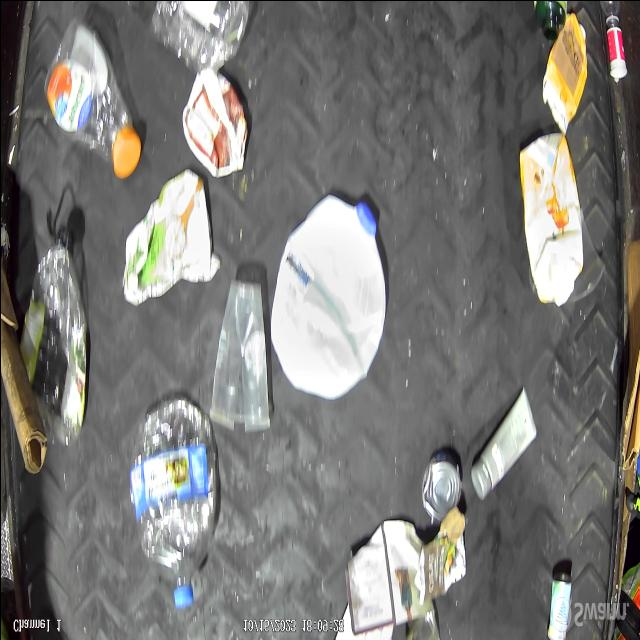milk_jug: (269, 197, 383, 406)
non_white_jug: (523, 141, 579, 308)
plastic_bottle: (46, 13, 142, 185)
